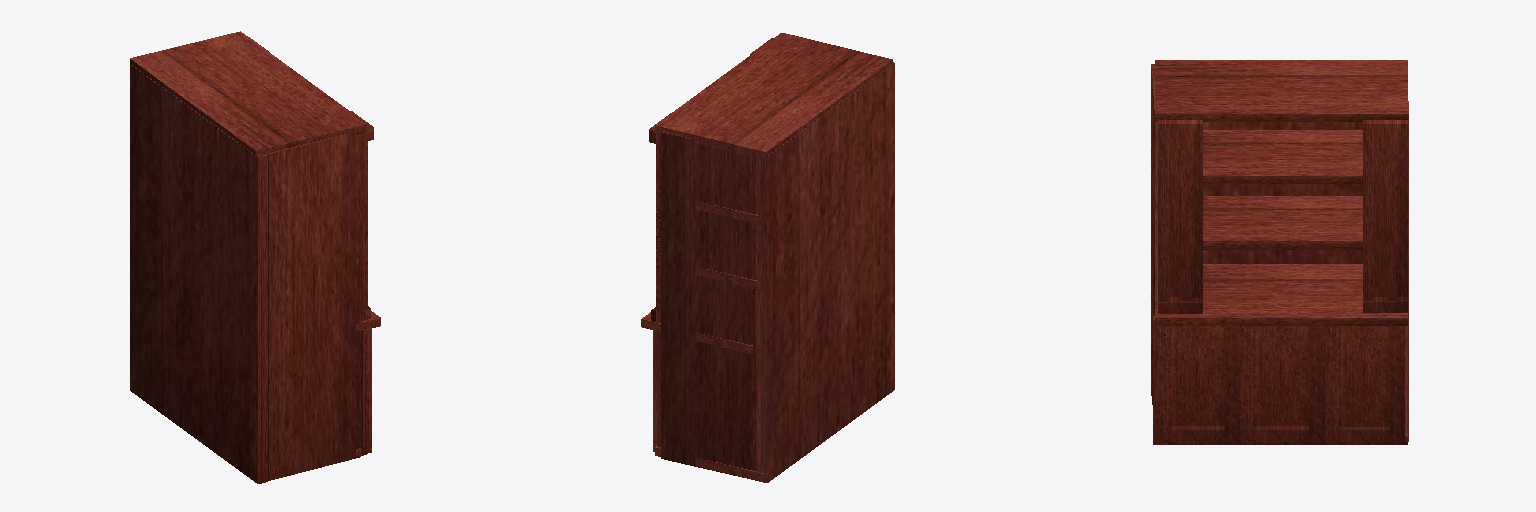
3 views of the same model, side by side, from view 1: azimuth 30°, elevation 25°; view 2: azimuth 150°, elevation 25°; view 3: azimuth 270°, elevation 25° (orthographic).
Visible parts, largest first — view 1: pCube22; view 2: pCube22; view 3: pCube22.
Boxes of the visible parts, <box> form: pCube22: <box>130,31,380,483</box>; pCube22: <box>641,33,894,482</box>; pCube22: <box>1151,60,1408,444</box>.
Size of the model in its own units: 1.12 by 2.82 by 2.
1 materials, 1 textured.